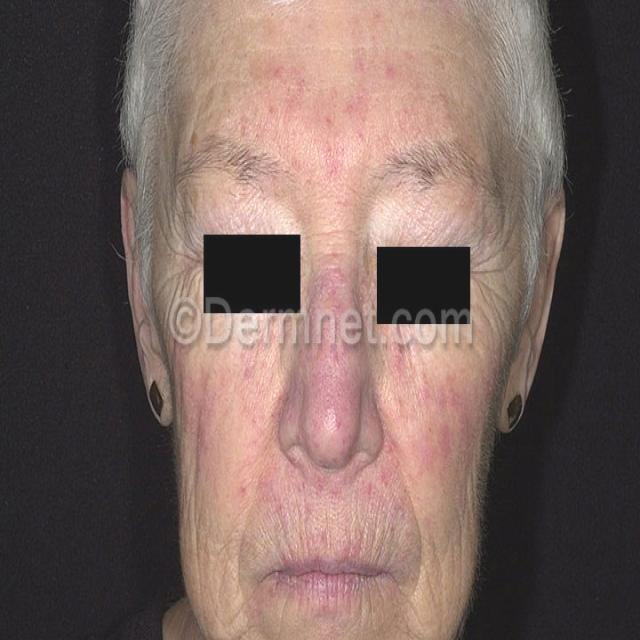Rosacea: (228, 33, 471, 172), (370, 340, 478, 499), (186, 330, 279, 496), (294, 255, 366, 448)
